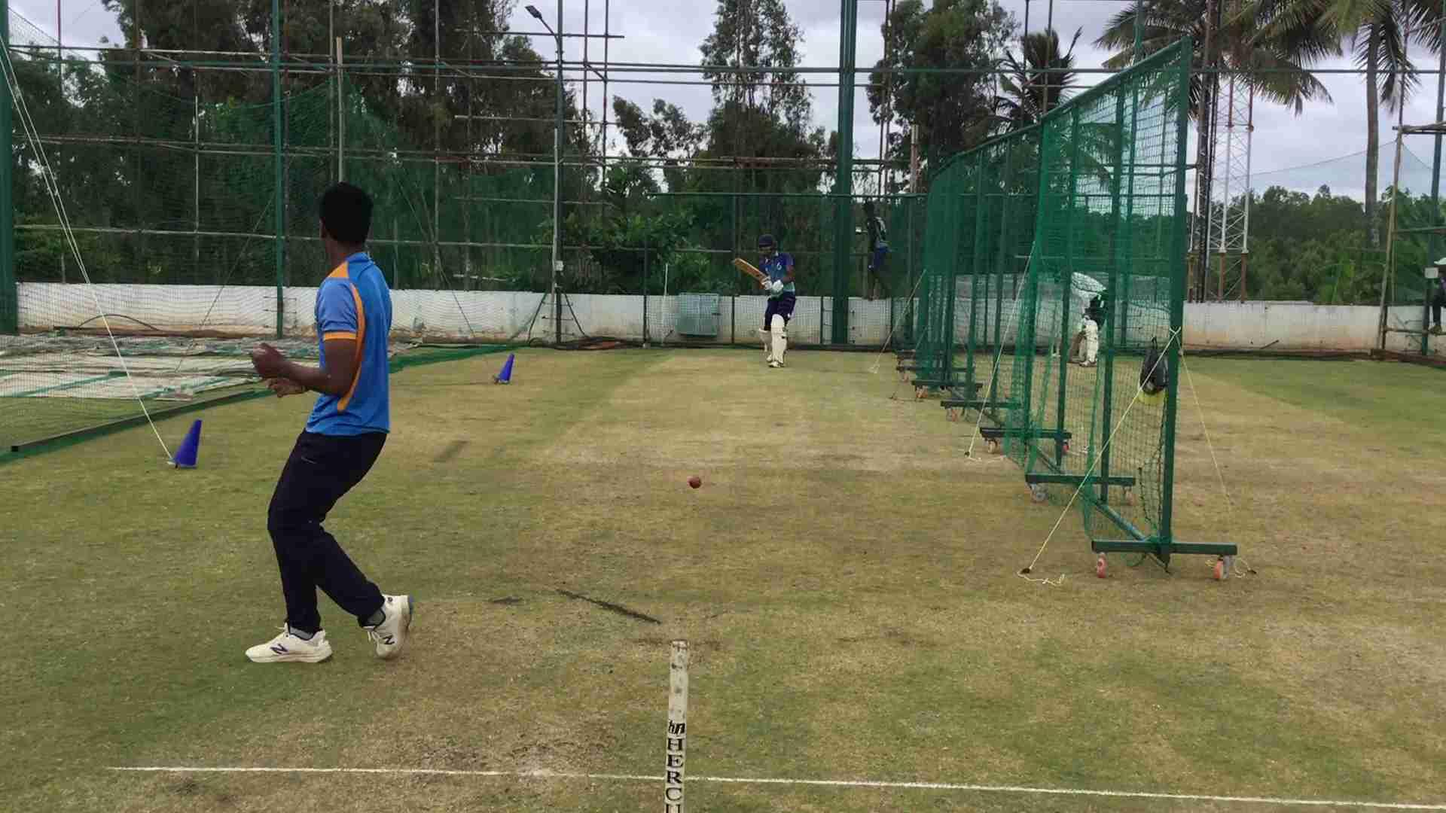batsman: (750, 227, 800, 371)
